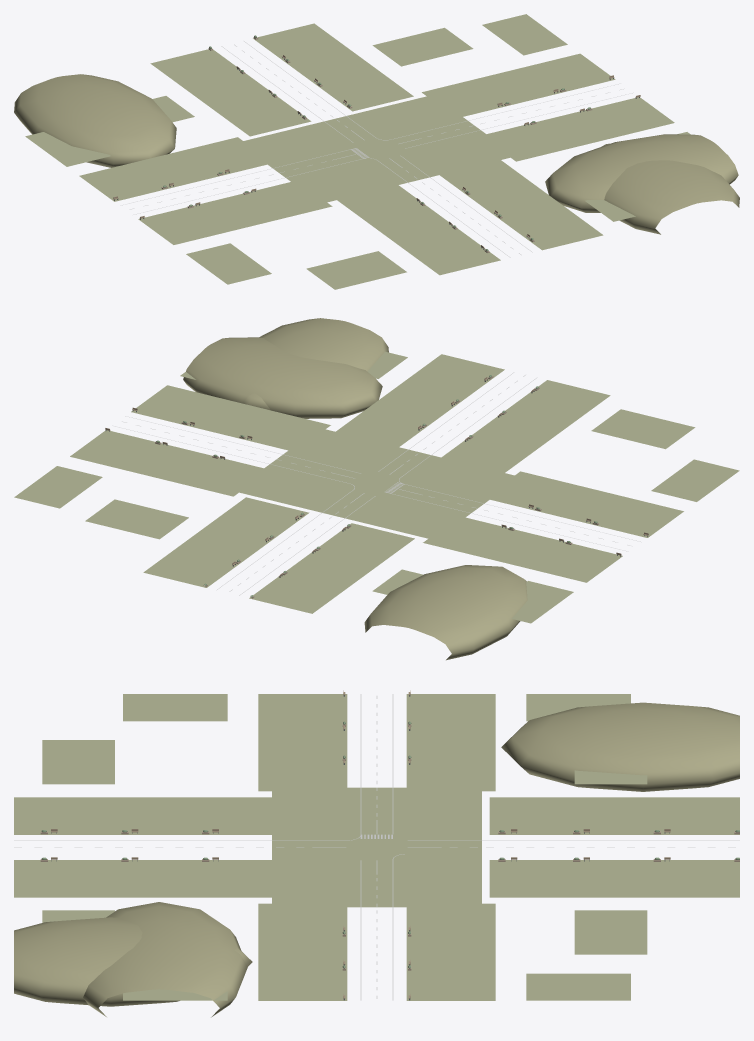
The picture shows the model from 3 angles, top to bottom: view 1: azimuth 30°, elevation 25°; view 2: azimuth 150°, elevation 25°; view 3: azimuth 270°, elevation 25°; orthographic projection. The views are drawn at different scales.
Visible parts, largest first — view 1: static; view 2: static; view 3: static.
Part boxes in pixels (<box>): static: <box>14,14,739,289</box>; static: <box>14,318,739,660</box>; static: <box>14,690,739,1017</box>.
Size of what is drawn, in the model's own units: 180 by 14.08 by 180.
